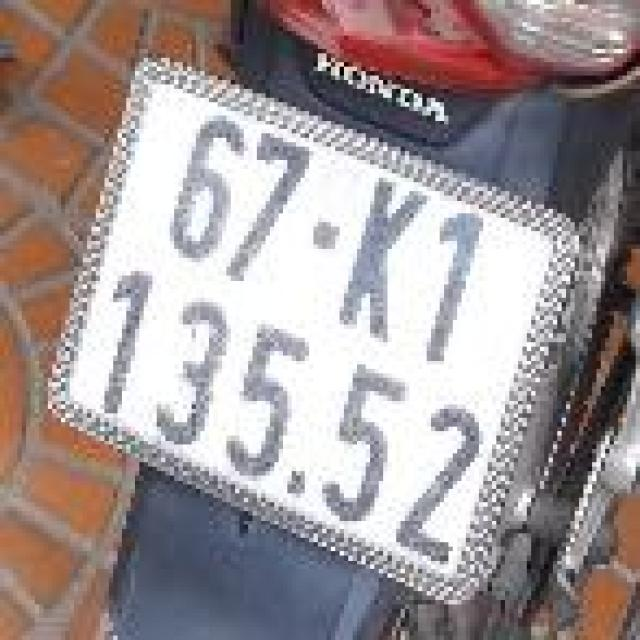1: (408, 197, 505, 379), (79, 254, 173, 427)
2: (382, 391, 504, 583)
3: (141, 286, 253, 457)
5: (213, 311, 322, 489), (316, 352, 420, 532)
6: (157, 105, 267, 274)
7: (216, 117, 331, 292)
K: (326, 164, 451, 356)
